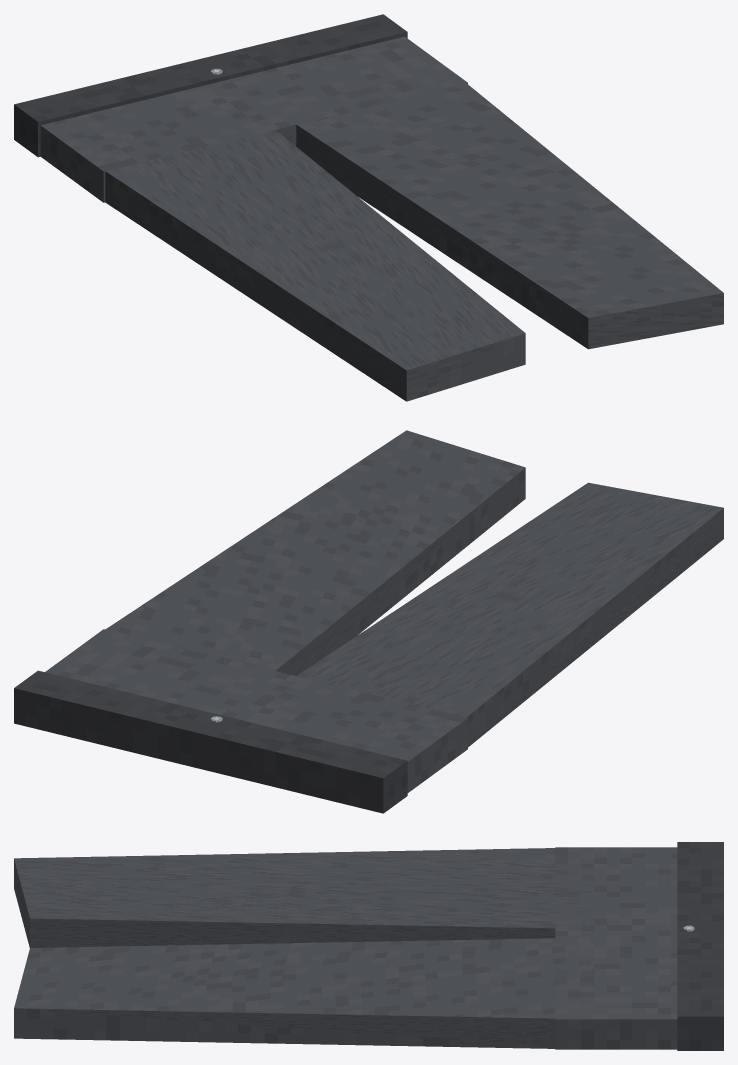
The model's file is trousers_ninja.glb.
3 views of the same model, one above another, from view 1: azimuth 30°, elevation 25°; view 2: azimuth 150°, elevation 25°; view 3: azimuth 270°, elevation 25° (orthographic). The views are drawn at different scales.
Parts seen in each view (by area): view 1: block_leg 1, block_leg -1, block_seat, block_waistband; view 2: block_leg -1, block_leg 1, block_seat, block_waistband; view 3: block_leg 1, block_leg -1, block_seat, block_waistband.
Part boxes in pixels (x1,y1,x2,y2): block_leg 1: (278, 68, 723, 349); block_leg -1: (86, 118, 525, 401); block_seat: (40, 36, 467, 202); block_waistband: (14, 14, 407, 157); block_leg -1: (278, 482, 723, 747); block_leg 1: (105, 430, 525, 683); block_seat: (45, 629, 467, 792); block_waistband: (14, 670, 407, 813); block_leg 1: (14, 937, 593, 1048); block_leg -1: (14, 847, 594, 947); block_seat: (555, 847, 677, 1049); block_waistband: (677, 842, 723, 1050).
Bounding box in the file's own units: 0.1566 × 0.0149 × 0.269.
Materials: 1 (1 with a texture image).
